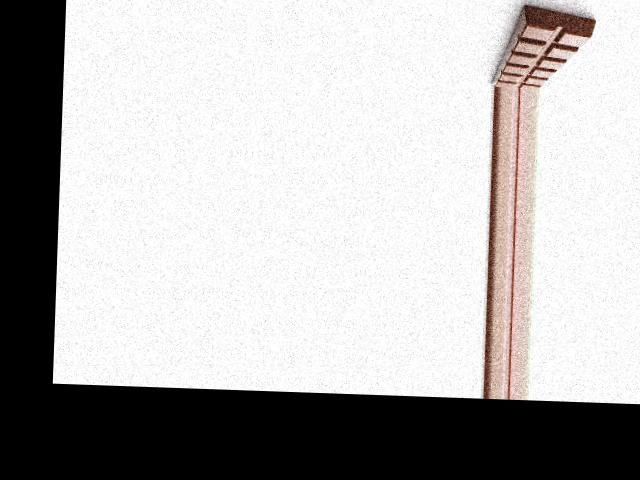chocolate: (484, 1, 596, 89)
